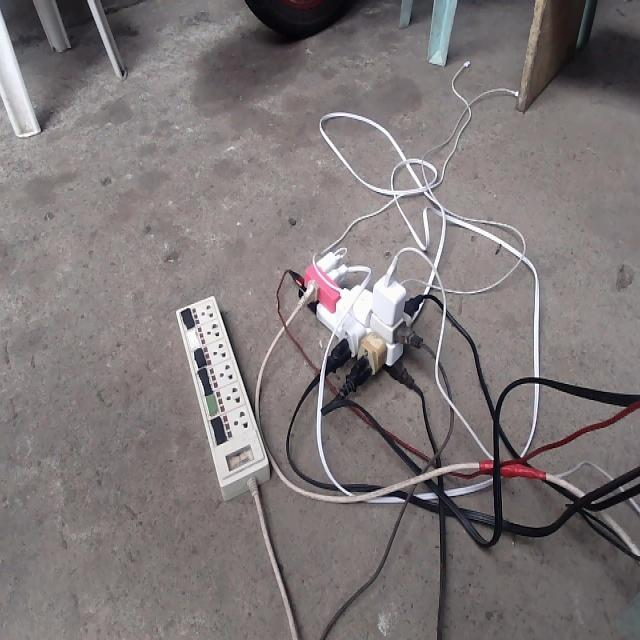-: (237, 215, 472, 408)
